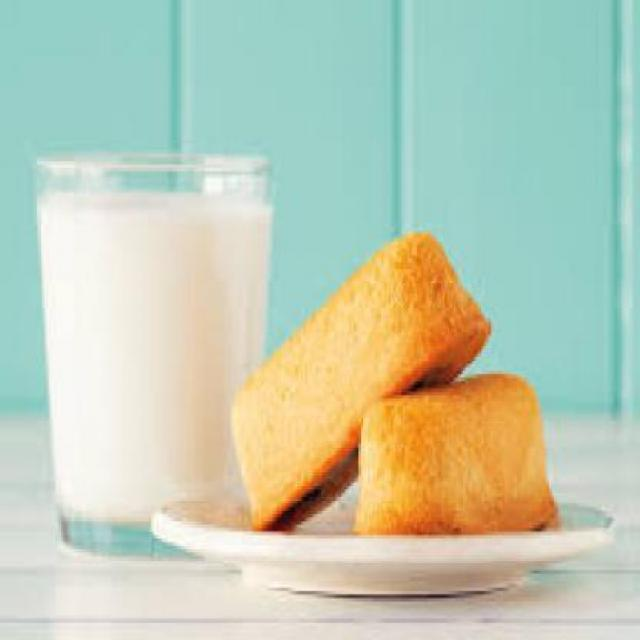Merendine packaged: (227, 223, 498, 540), (352, 367, 566, 539)
